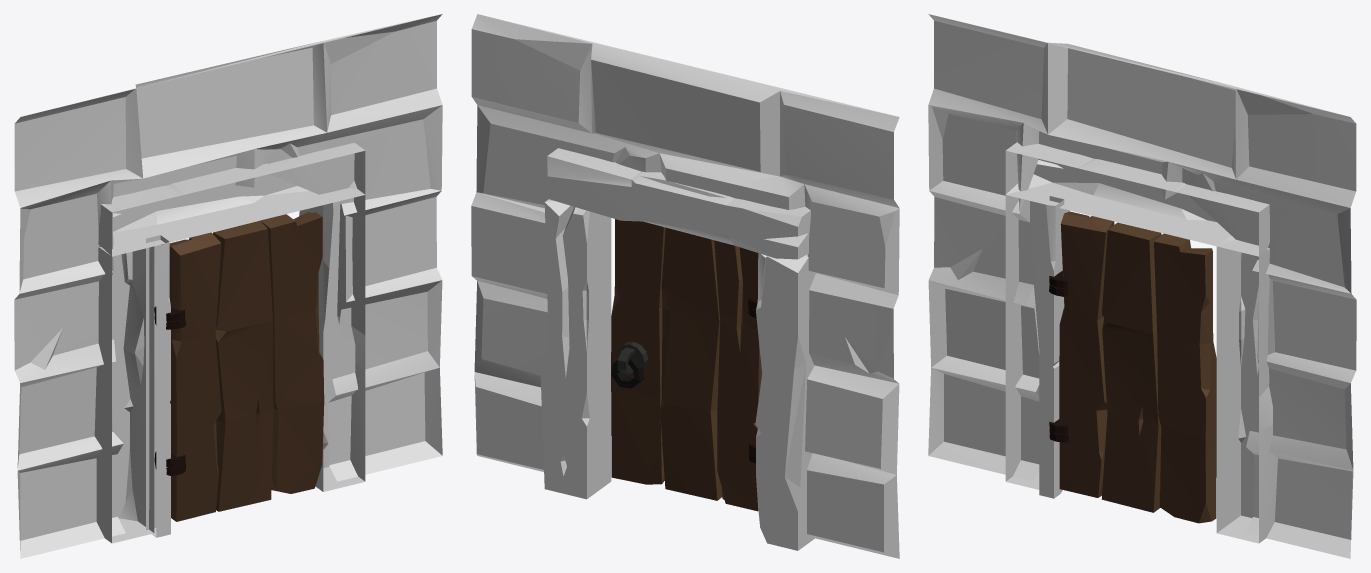
Rendered from NGF_Env_Wooden_doorway_04.fbx.
The picture shows the model from 3 angles, left to right: view 1: azimuth 30°, elevation 25°; view 2: azimuth 150°, elevation 25°; view 3: azimuth 330°, elevation 25°; orthographic projection.
Visible parts, largest first — view 1: NGF_Env_Wooden_doorway_04, NGF_Env_Door_11, NGF_Env_Door_attachment_05; view 2: NGF_Env_Wooden_doorway_04, NGF_Env_Door_11, NGF_Env_Handle_attachment_11, NGF_Env_Handle_11; view 3: NGF_Env_Wooden_doorway_04, NGF_Env_Door_11, NGF_Env_Door_attachment_05.
Part boxes in pixels (left/top/right/bottom): NGF_Env_Wooden_doorway_04: left=14, top=14, right=442, bottom=558; NGF_Env_Door_11: left=169, top=212, right=324, bottom=521; NGF_Env_Door_attachment_05: left=146, top=235, right=170, bottom=537; NGF_Env_Wooden_doorway_04: left=471, top=14, right=899, bottom=558; NGF_Env_Door_11: left=611, top=219, right=762, bottom=511; NGF_Env_Handle_attachment_11: left=617, top=342, right=648, bottom=374; NGF_Env_Handle_11: left=611, top=356, right=644, bottom=388; NGF_Env_Wooden_doorway_04: left=928, top=14, right=1356, bottom=558; NGF_Env_Door_11: left=1059, top=211, right=1216, bottom=523; NGF_Env_Door_attachment_05: left=1039, top=196, right=1064, bottom=498.
Size of the model in its own units: 4 by 4 by 0.5354.
Materials: 1 (1 with a texture image).
